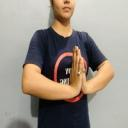hand: (70, 46, 81, 100), (81, 50, 86, 100)
